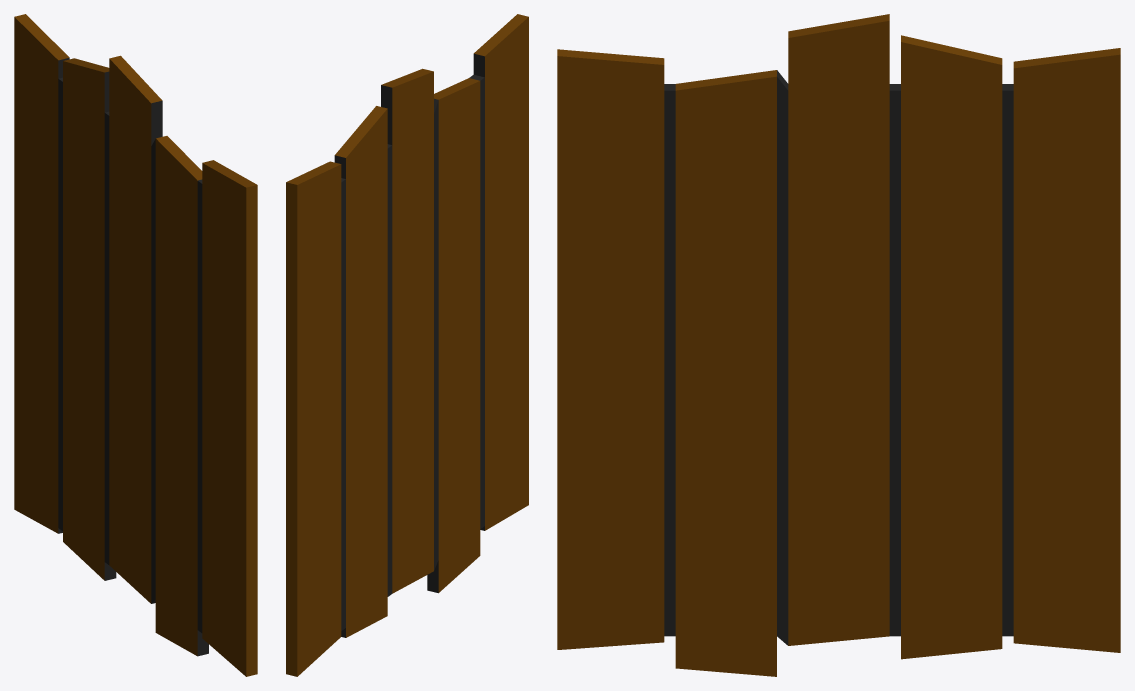
The model's file is Boards.fbx.
3 renders of one model, left to right at view 1: azimuth 30°, elevation 25°; view 2: azimuth 150°, elevation 25°; view 3: azimuth 270°, elevation 25°, orthographic. The views are drawn at different scales.
Visible parts, largest first — view 1: Boards; view 2: Boards; view 3: Boards.
Boxes of the visible parts, bbox=[...] form: Boards: bbox=[14, 14, 257, 676]; Boards: bbox=[286, 14, 528, 676]; Boards: bbox=[557, 14, 1120, 676].
Bounding box in the file's own units: 1.4 × 63.6 × 49.47.
